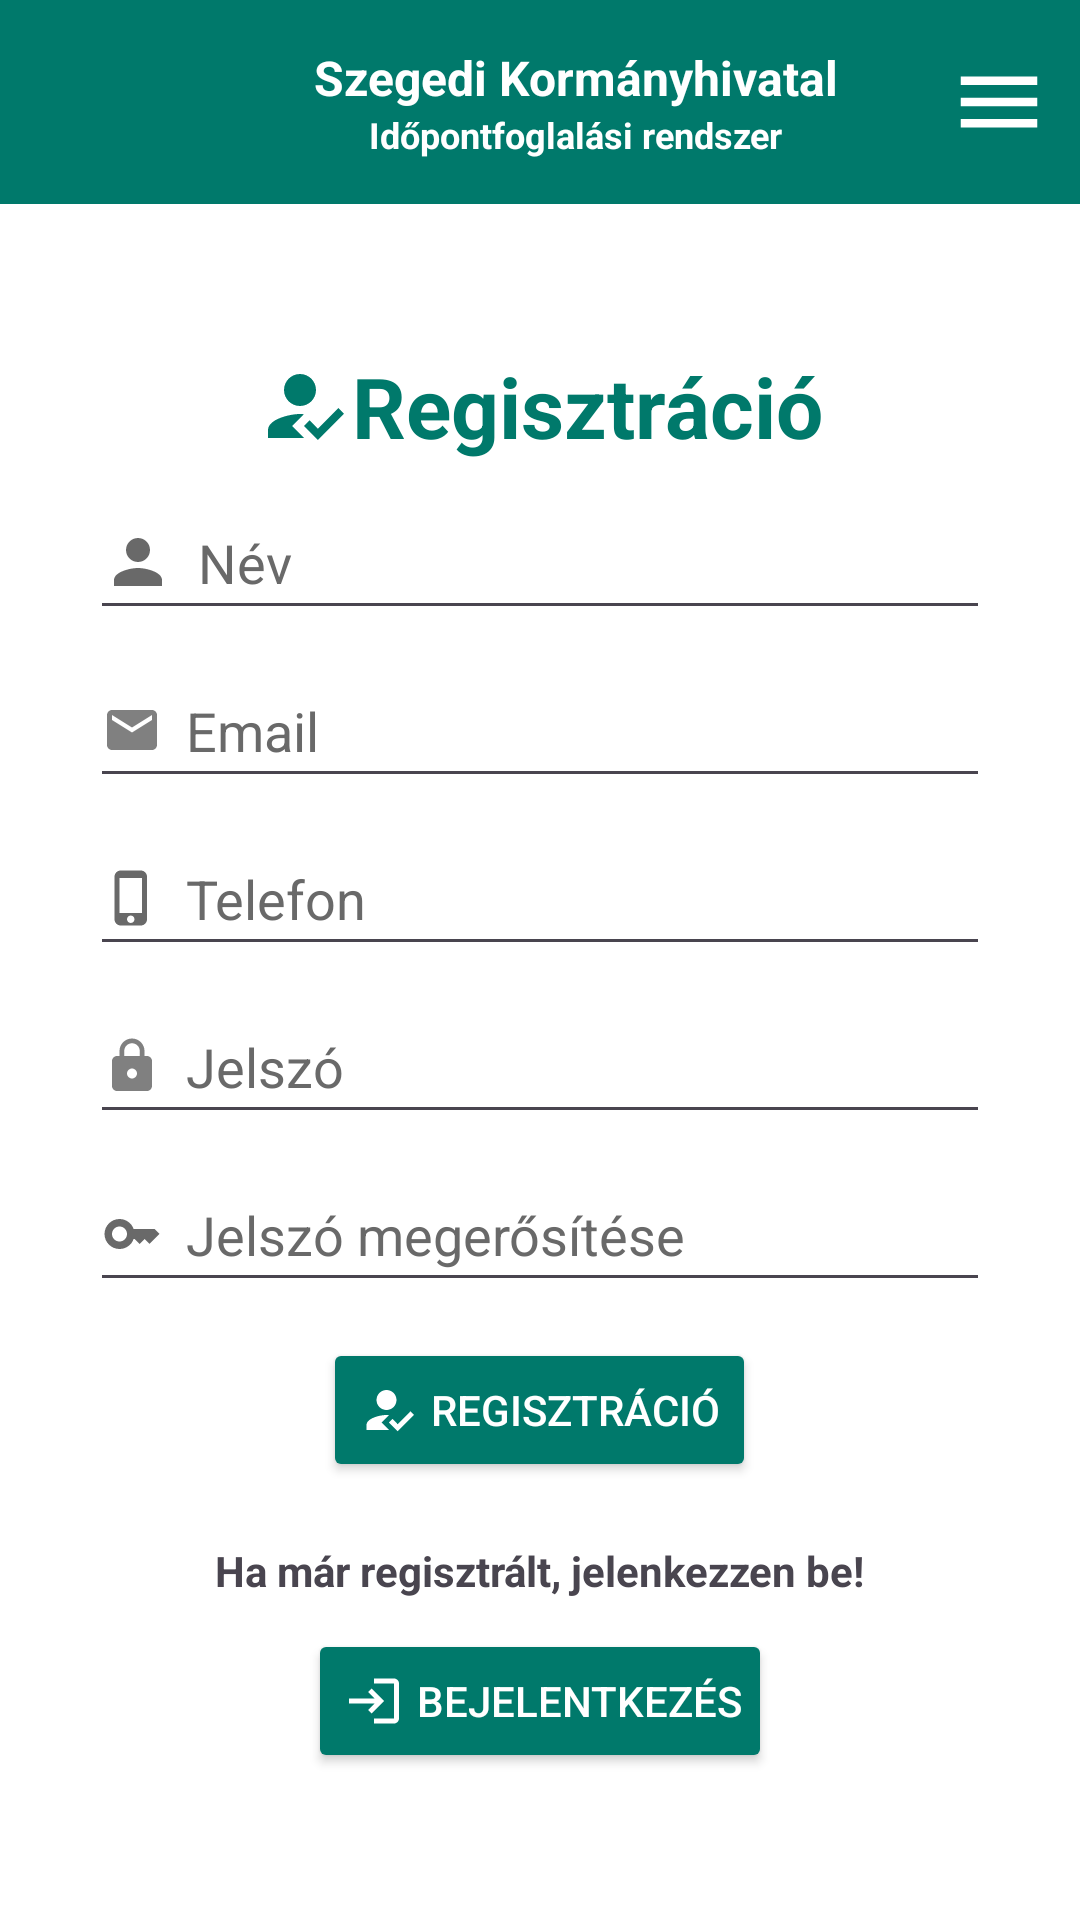

Icon bounding boxes for this 1080*1920 phone screenshot, format detection(x1, y1, x2, y2):
Menű: detection(960, 76, 1038, 128)
